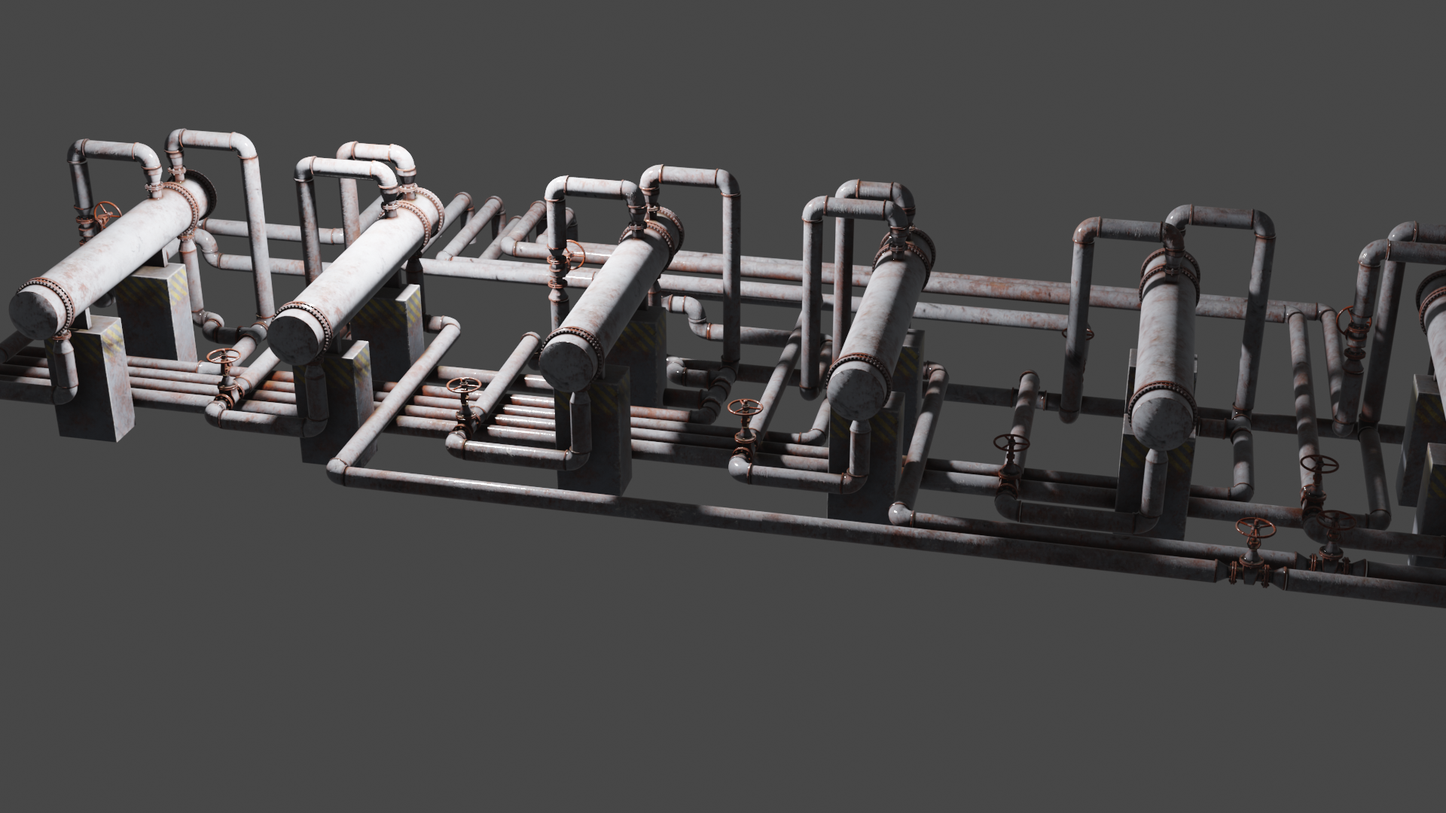HE_1: (1412, 273, 1446, 419)
HE_2: (1126, 243, 1197, 449)
HE_3: (821, 219, 941, 430)
HE_4: (535, 202, 688, 394)
HE_5: (261, 185, 444, 365)
HE_6: (5, 164, 218, 339)
